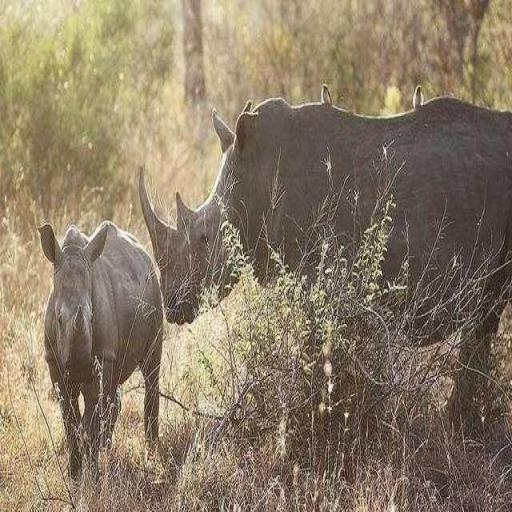Rhino: (138, 83, 511, 343), (38, 218, 164, 484)
